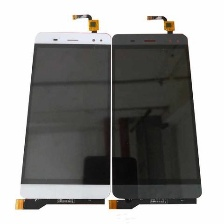phone: (110, 30, 205, 203), (16, 31, 112, 202)
